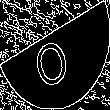O_NW: (32, 22, 78, 88)
